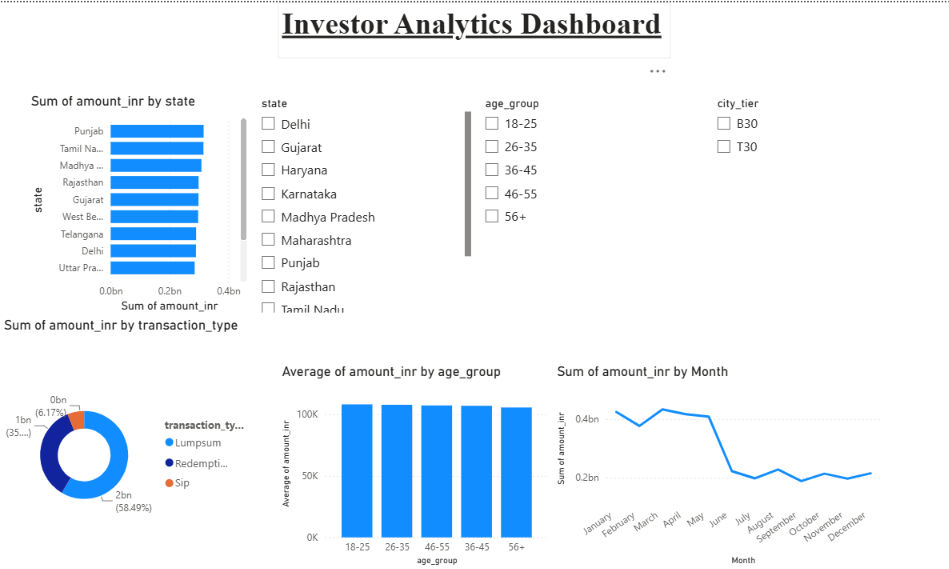

This screenshot's page, from the dashboard's own definition file:
{"tool":"powerbi","page":{"name":"Investor Analytics","canvas":[1280,720],"ordinal":2},"visuals":[{"type":"clusteredBarChart","fields":{"Category":["08_investor_transactions_cleaned.state"],"Y":["Sum(08_investor_transactions_cleaned.amount_inr)"]},"box":[33.8,112.5,280,280],"z":0},{"type":"donutChart","fields":{"Category":["08_investor_transactions_cleaned.transaction_type"],"Y":["Sum(08_investor_transactions_cleaned.amount_inr)"]},"box":[0,392.5,313.8,327.5],"z":1000},{"type":"clusteredColumnChart","fields":{"Category":["08_investor_transactions_cleaned.age_group"],"Y":["Avg(08_investor_transactions_cleaned.amount_inr)"]},"box":[347.5,451.2,343.8,257.5],"z":2000},{"type":"lineChart","fields":{"Category":["08_investor_transactions_cleaned.transaction_date.Variation.Date Hierarchy.Month"],"Y":["Sum(08_investor_transactions_cleaned.amount_inr)"]},"box":[691.2,451.2,413.8,257.5],"z":3000},{"type":"slicer","fields":{"Values":["08_investor_transactions_cleaned.state"]},"box":[313.8,112.5,280,280],"z":4000},{"type":"slicer","fields":{"Values":["08_investor_transactions_cleaned.age_group"]},"box":[593.8,112.5,290,308.8],"z":5000},{"type":"slicer","fields":{"Values":["08_investor_transactions_cleaned.city_tier"]},"box":[883.8,112.5,308.8,325],"z":6000},{"type":"textbox","box":[347.5,0,491.2,70],"z":6001}]}

Visuals, with their boxes on the page's 1280x720 design canvas (x1, y1, x2, y2). These are canvas units, not pixel positions in the 949x569 screenshot, which may show the page scaled, cropped or inside an application window:
clusteredBarChart - 08_investor_transactions_cleaned.state x Sum(08_investor_transactions_cleaned.amount_inr): BBox(34, 112, 314, 392)
donutChart - 08_investor_transactions_cleaned.transaction_type x Sum(08_investor_transactions_cleaned.amount_inr): BBox(0, 392, 314, 720)
clusteredColumnChart - 08_investor_transactions_cleaned.age_group x Avg(08_investor_transactions_cleaned.amount_inr): BBox(348, 451, 691, 709)
lineChart - 08_investor_transactions_cleaned.transaction_date.Variation.Date Hierarchy.Month x Sum(08_investor_transactions_cleaned.amount_inr): BBox(691, 451, 1105, 709)
slicer - 08_investor_transactions_cleaned.state: BBox(314, 112, 594, 392)
slicer - 08_investor_transactions_cleaned.age_group: BBox(594, 112, 884, 421)
slicer - 08_investor_transactions_cleaned.city_tier: BBox(884, 112, 1193, 438)
textbox: BBox(348, 0, 839, 70)
